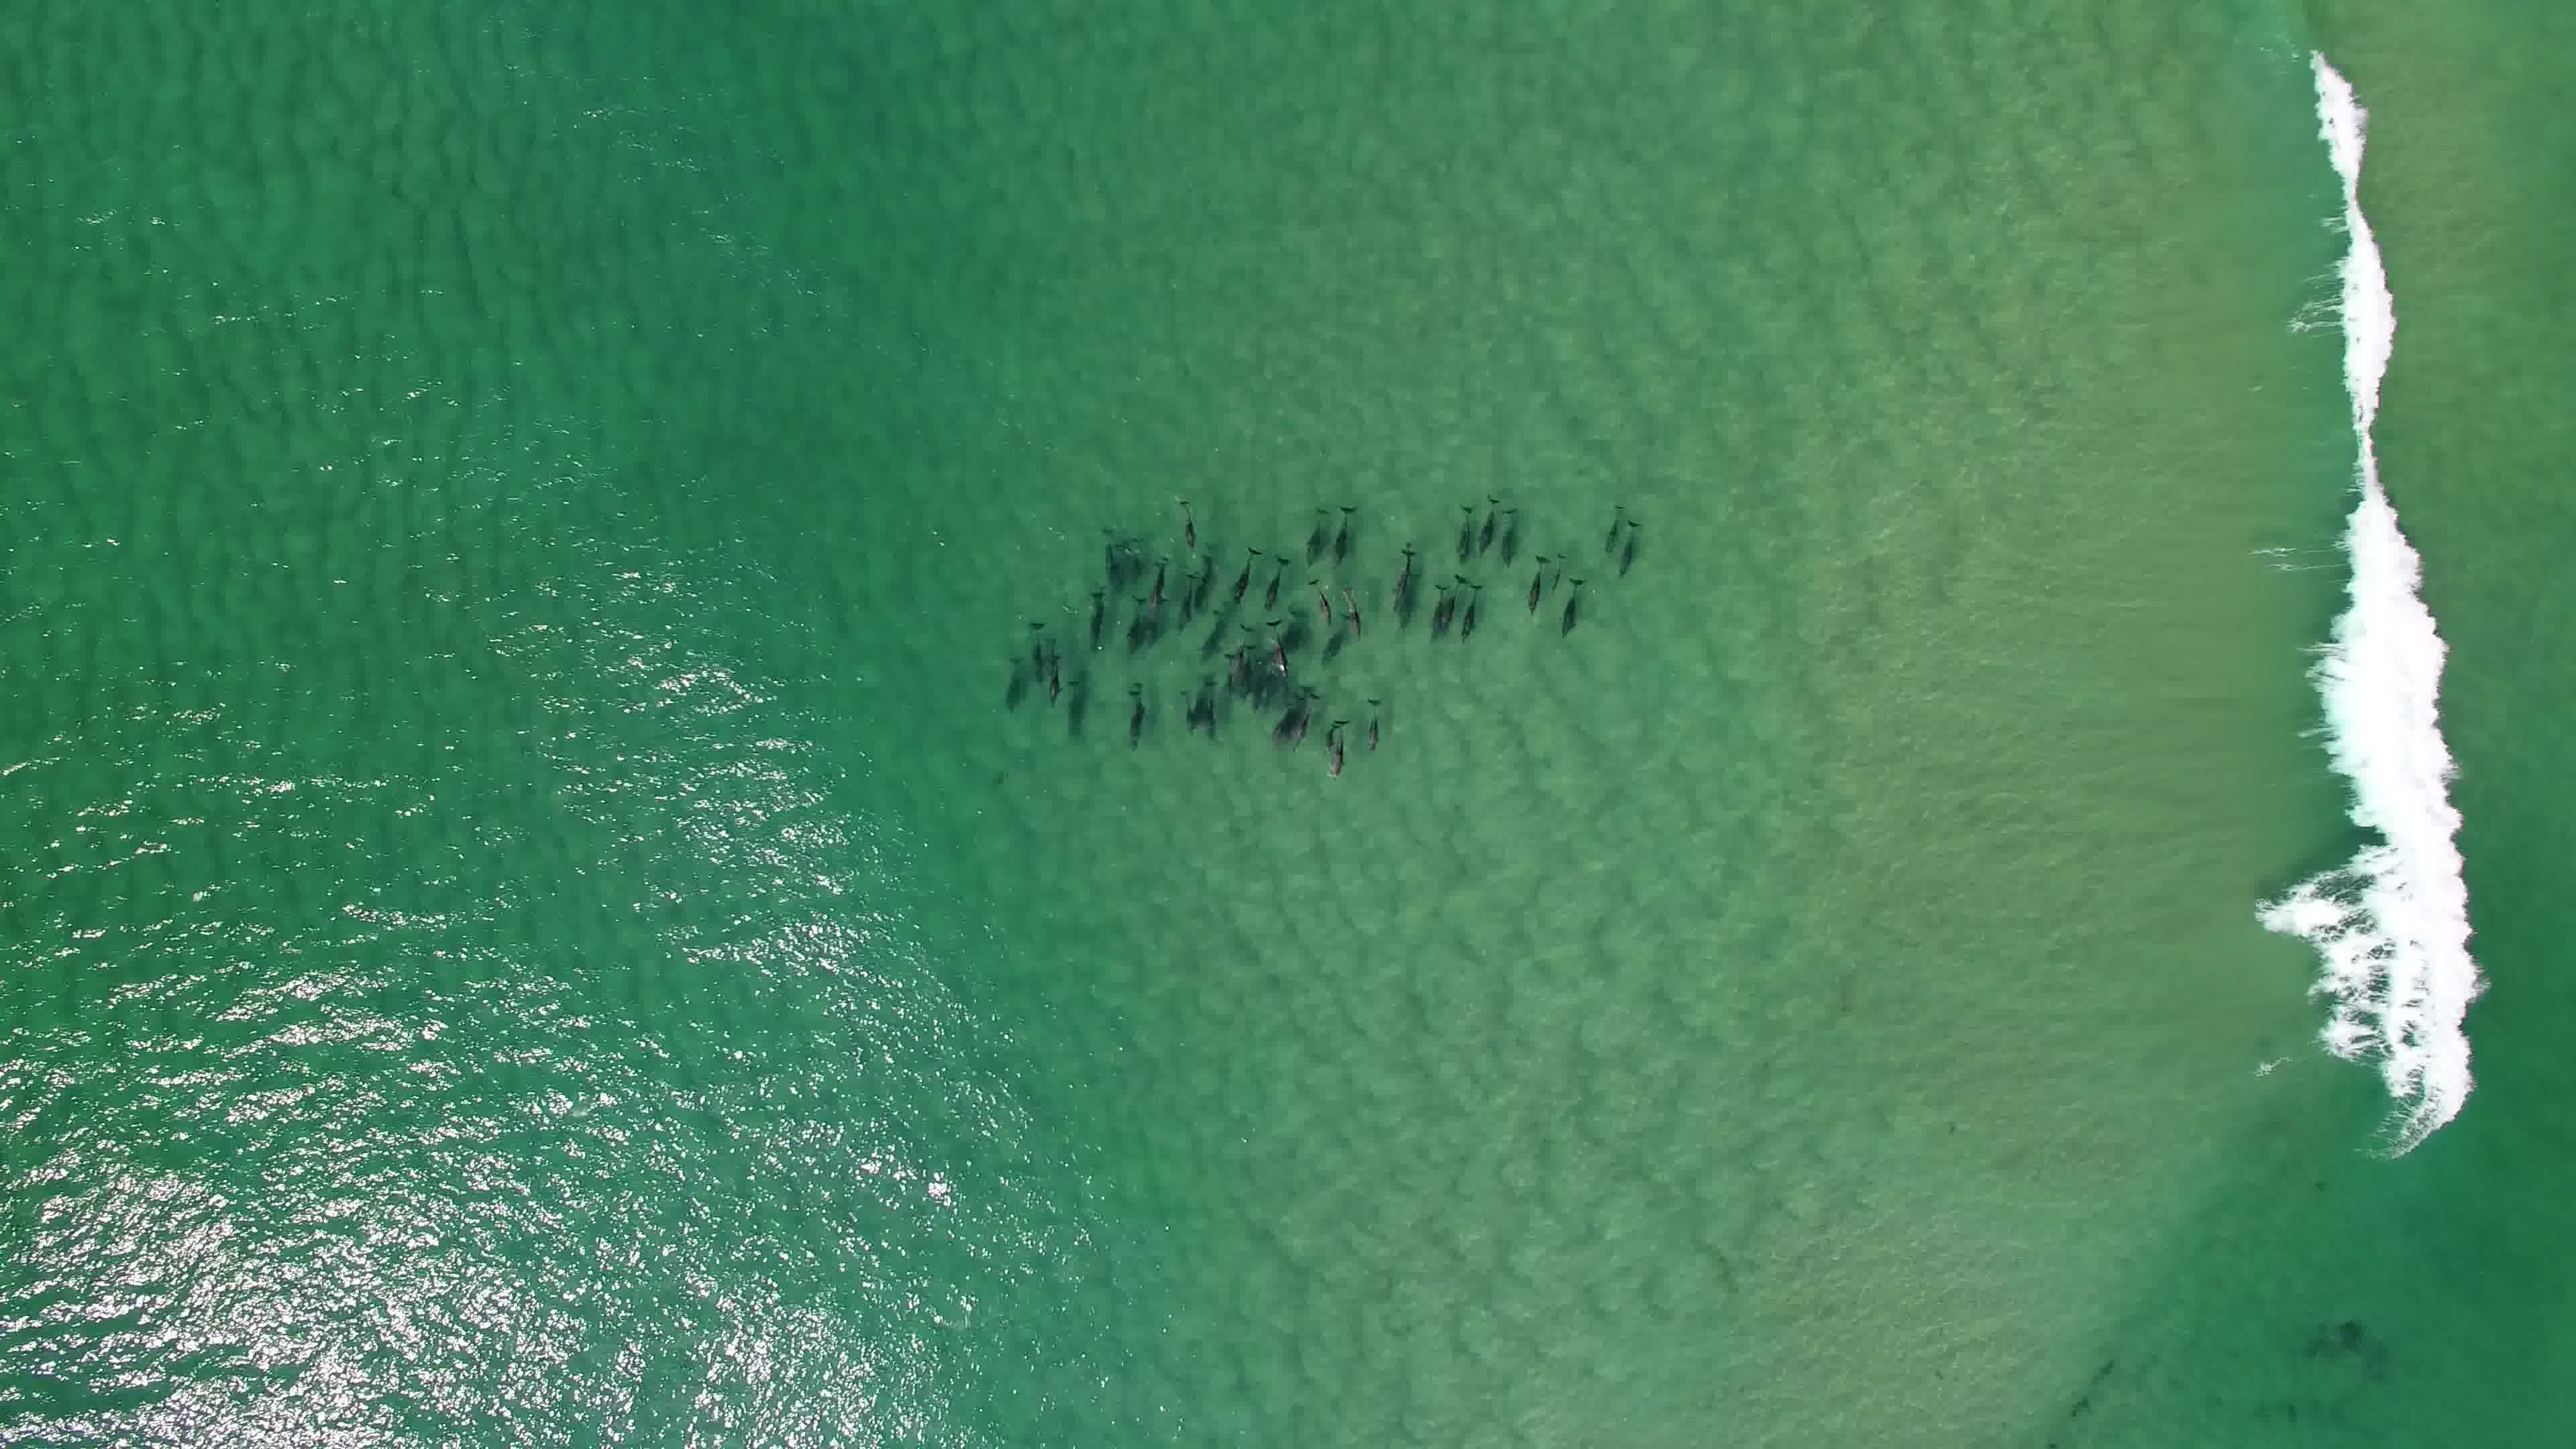dolphin: (1382, 534, 1433, 630), (1442, 557, 1490, 653), (1219, 540, 1267, 614), (1555, 564, 1592, 651), (1261, 690, 1313, 750), (1295, 497, 1336, 570), (1447, 488, 1483, 570), (1162, 495, 1208, 557), (1134, 559, 1178, 621), (1470, 490, 1507, 563), (1076, 579, 1113, 651), (1327, 499, 1362, 575), (1493, 499, 1527, 575), (1260, 541, 1293, 616), (1178, 679, 1221, 736), (1263, 619, 1297, 686), (1334, 571, 1368, 637), (1322, 715, 1352, 787), (1302, 571, 1339, 630), (1120, 681, 1152, 748), (1522, 543, 1548, 621), (1594, 494, 1626, 557), (1042, 635, 1069, 711), (1426, 568, 1449, 653), (1359, 686, 1387, 755), (998, 653, 1028, 713), (1021, 616, 1049, 679), (1617, 513, 1644, 580), (1093, 522, 1123, 580), (1226, 635, 1254, 695)
